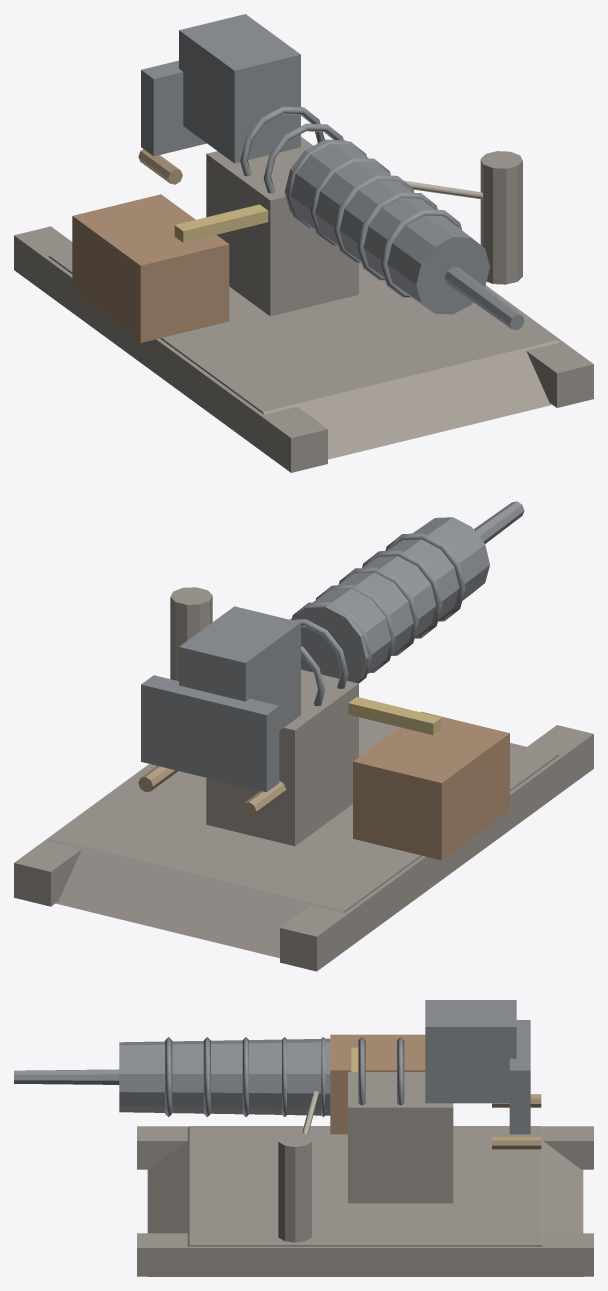
File: trench-line-1917-machine-gun-sled-ab3b9f90__24097.glb
The picture shows the model from 3 angles, top to bottom: view 1: azimuth 30°, elevation 25°; view 2: azimuth 150°, elevation 25°; view 3: azimuth 270°, elevation 25°; orthographic projection. The views are drawn at different scales.
Parts seen in each view (by area): view 1: machine-gun-sled; view 2: machine-gun-sled; view 3: machine-gun-sled.
Part boxes in pixels (x1=…): machine-gun-sled: x1=14, y1=14, x2=593, y2=472; machine-gun-sled: x1=14, y1=501, x2=593, y2=971; machine-gun-sled: x1=14, y1=1000, x2=593, y2=1276.
Bounding box in the file's own units: 0.97 × 0.6399 × 1.65.
